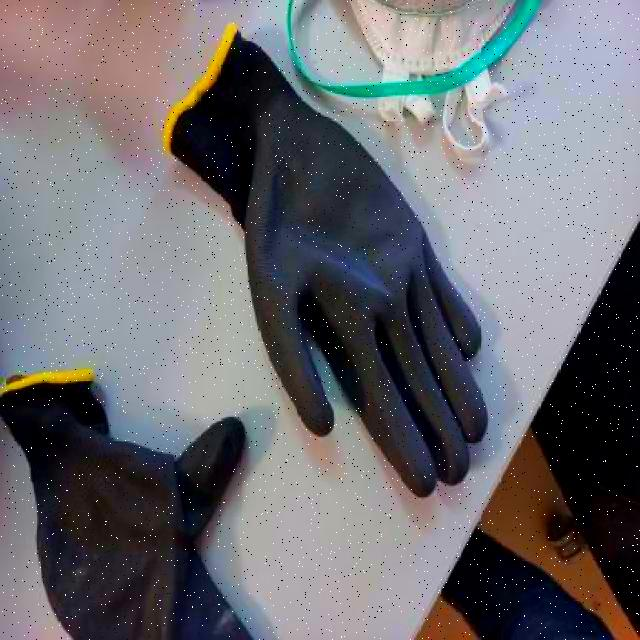Gloves: (111, 234, 457, 640), (0, 0, 215, 331)
